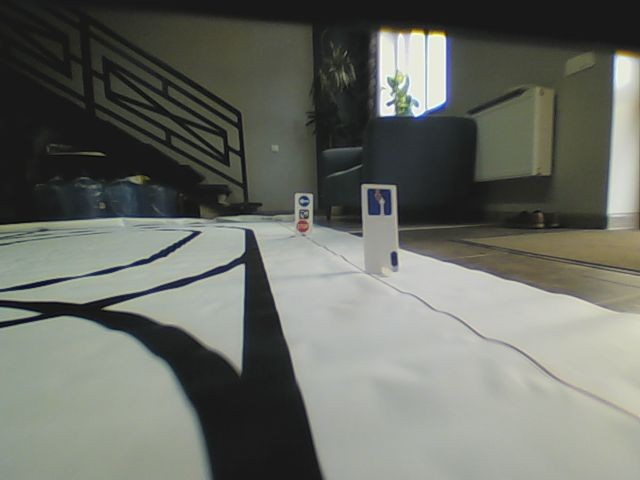priority_movement: (366, 187, 393, 217)
